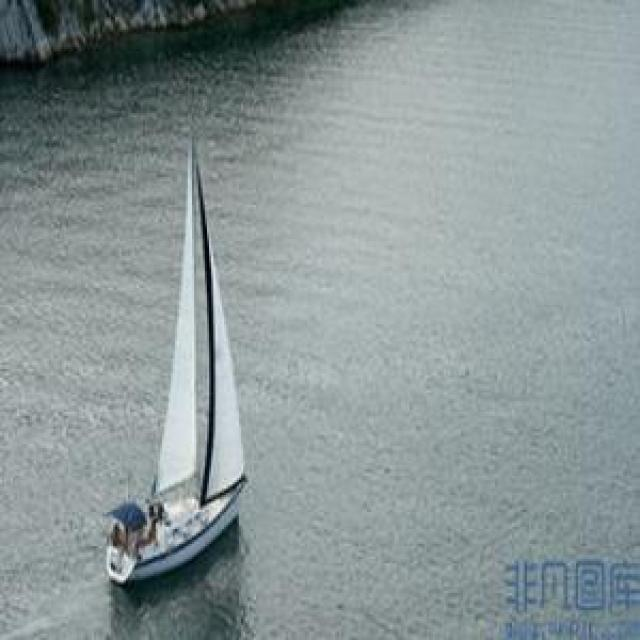sailboat: (103, 136, 254, 592)
